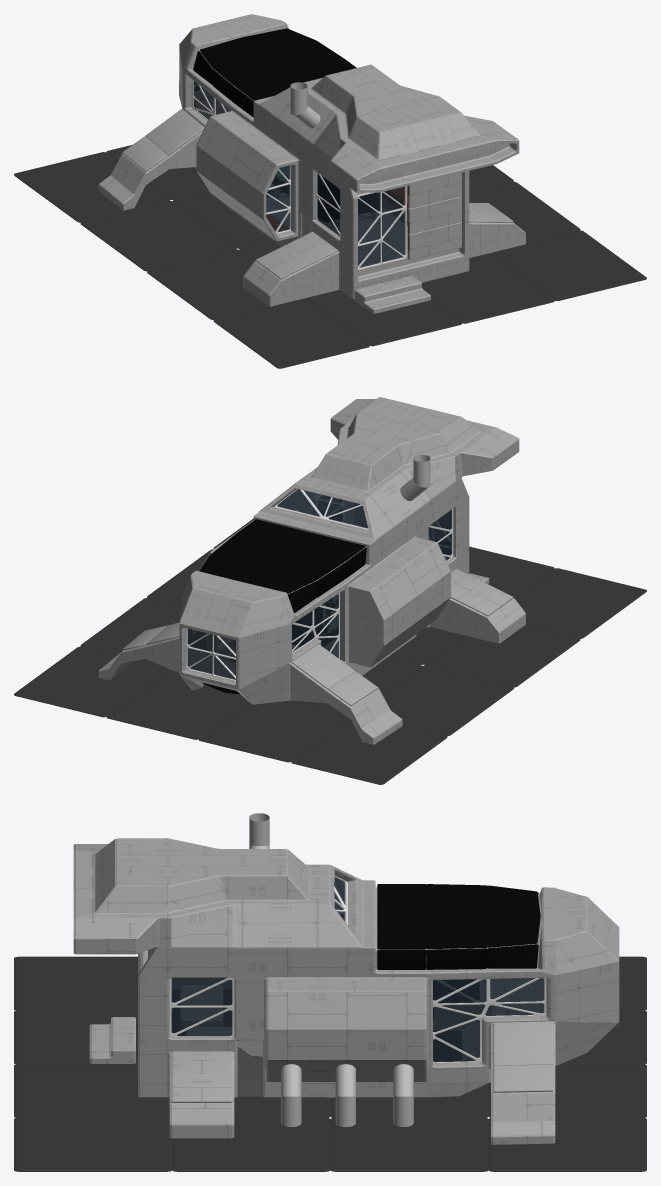
3 renders of one model, top to bottom at view 1: azimuth 30°, elevation 25°; view 2: azimuth 150°, elevation 25°; view 3: azimuth 270°, elevation 25°, orthographic. The views are drawn at different scales.
Visible parts, largest first — view 1: hull, Plane, hull.013, hull.001, hull.008, hull.004, object 17, object 16, hull.003, hull.009, Elbow Joint.003, cargo; view 2: hull, Plane, hull.013, hull.004, object 16, hull.003, object 17, Elbow Joint.003, object 15; view 3: hull, Plane, hull.013, hull.004, object 15, hull.003, object 17, hull.011, Elbow Joint, Elbow Joint.001, Elbow Joint.002, Elbow Joint.003.
Boxes of the visible parts, bbox=[...] form: hull: bbox=[98, 14, 525, 313]; Plane: bbox=[14, 145, 646, 368]; hull.013: bbox=[193, 28, 356, 117]; hull.001: bbox=[407, 172, 461, 259]; hull.008: bbox=[358, 186, 404, 267]; hull.004: bbox=[193, 81, 340, 236]; object 17: bbox=[255, 203, 513, 279]; object 16: bbox=[122, 109, 204, 171]; hull.003: bbox=[192, 79, 340, 237]; hull.009: bbox=[357, 186, 406, 270]; Elbow Joint.003: bbox=[290, 82, 320, 128]; cargo: bbox=[272, 175, 378, 221]; hull: bbox=[98, 397, 525, 744]; Plane: bbox=[14, 518, 646, 784]; hull.013: bbox=[199, 519, 366, 612]; hull.004: bbox=[187, 489, 451, 679]; object 16: bbox=[292, 644, 378, 705]; hull.003: bbox=[186, 489, 453, 681]; object 17: bbox=[450, 569, 513, 616]; Elbow Joint.003: bbox=[400, 454, 430, 500]; object 15: bbox=[122, 622, 179, 650]; hull: bbox=[73, 838, 619, 1144]; Plane: bbox=[14, 956, 646, 1171]; hull.013: bbox=[377, 884, 540, 969]; hull.004: bbox=[171, 877, 544, 1062]; object 15: bbox=[493, 1021, 553, 1092]; hull.003: bbox=[169, 876, 546, 1063]; object 17: bbox=[172, 1051, 231, 1102]; hull.011: bbox=[237, 1040, 262, 1096]; Elbow Joint: bbox=[281, 1064, 301, 1126]; Elbow Joint.001: bbox=[393, 1064, 413, 1126]; Elbow Joint.002: bbox=[335, 1064, 355, 1126]; Elbow Joint.003: bbox=[249, 813, 269, 848].
Bounding box in the file's own units: 15.81 × 7.31 × 19.72.
11 materials, 1 textured.
